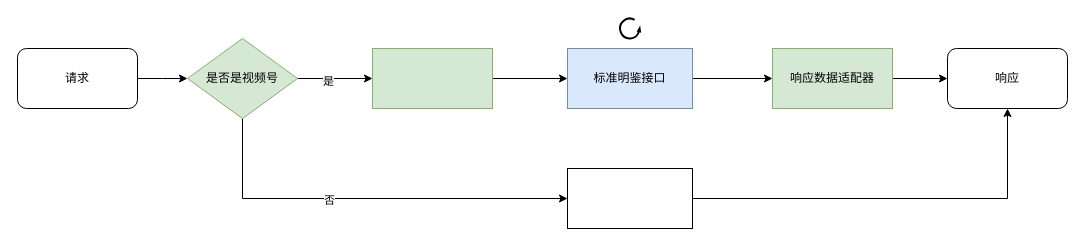
Image size: 1085x246. Some labels were removed from this diagram. The shapes that lost their labels are listed below. From the top down, each one's centre as x and y in pixels, then its label:
At [432,78]: "参数适配器".
At [629,198]: "保持现有处理逻辑".
